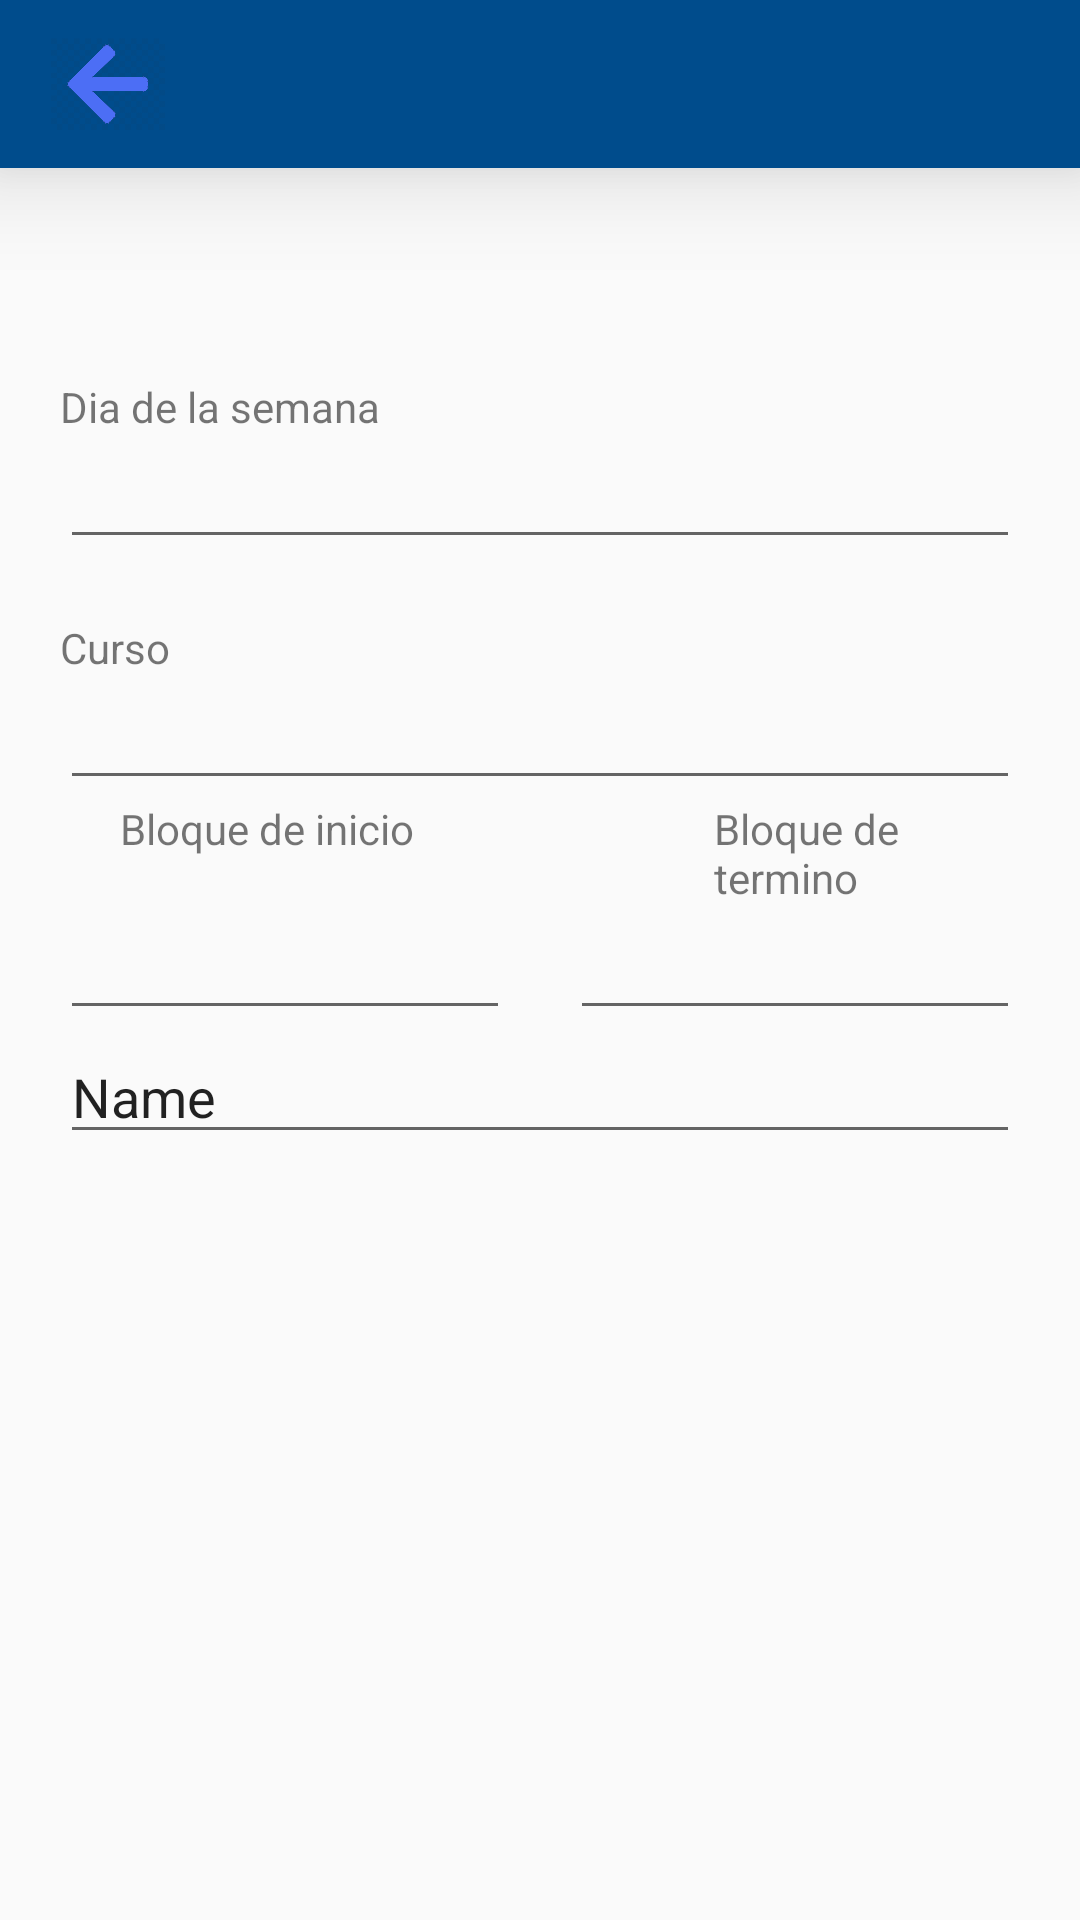

Screen size 1080 × 1920. Icon name, then its box in pixels as region(x1, y1, x2, y2):
flecha volver: region(67, 44, 148, 124)
